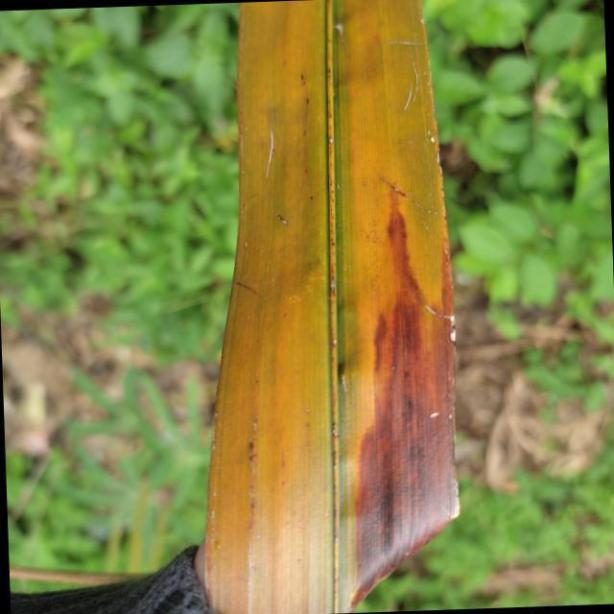Megnesium: (203, 0, 459, 614)
